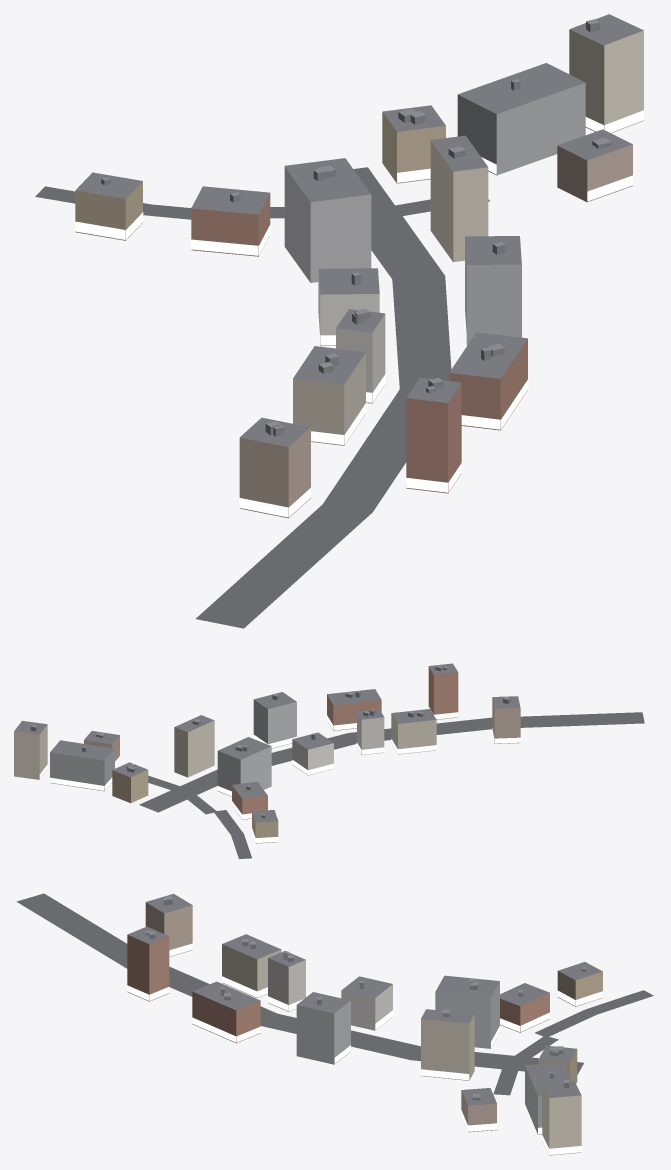
The picture shows the model from 3 angles, top to bottom: view 1: azimuth 30°, elevation 25°; view 2: azimuth 150°, elevation 25°; view 3: azimuth 270°, elevation 25°; orthographic projection. The views are drawn at different scales.
Bounding box in the file's own units: 295 × 32.43 × 303.
